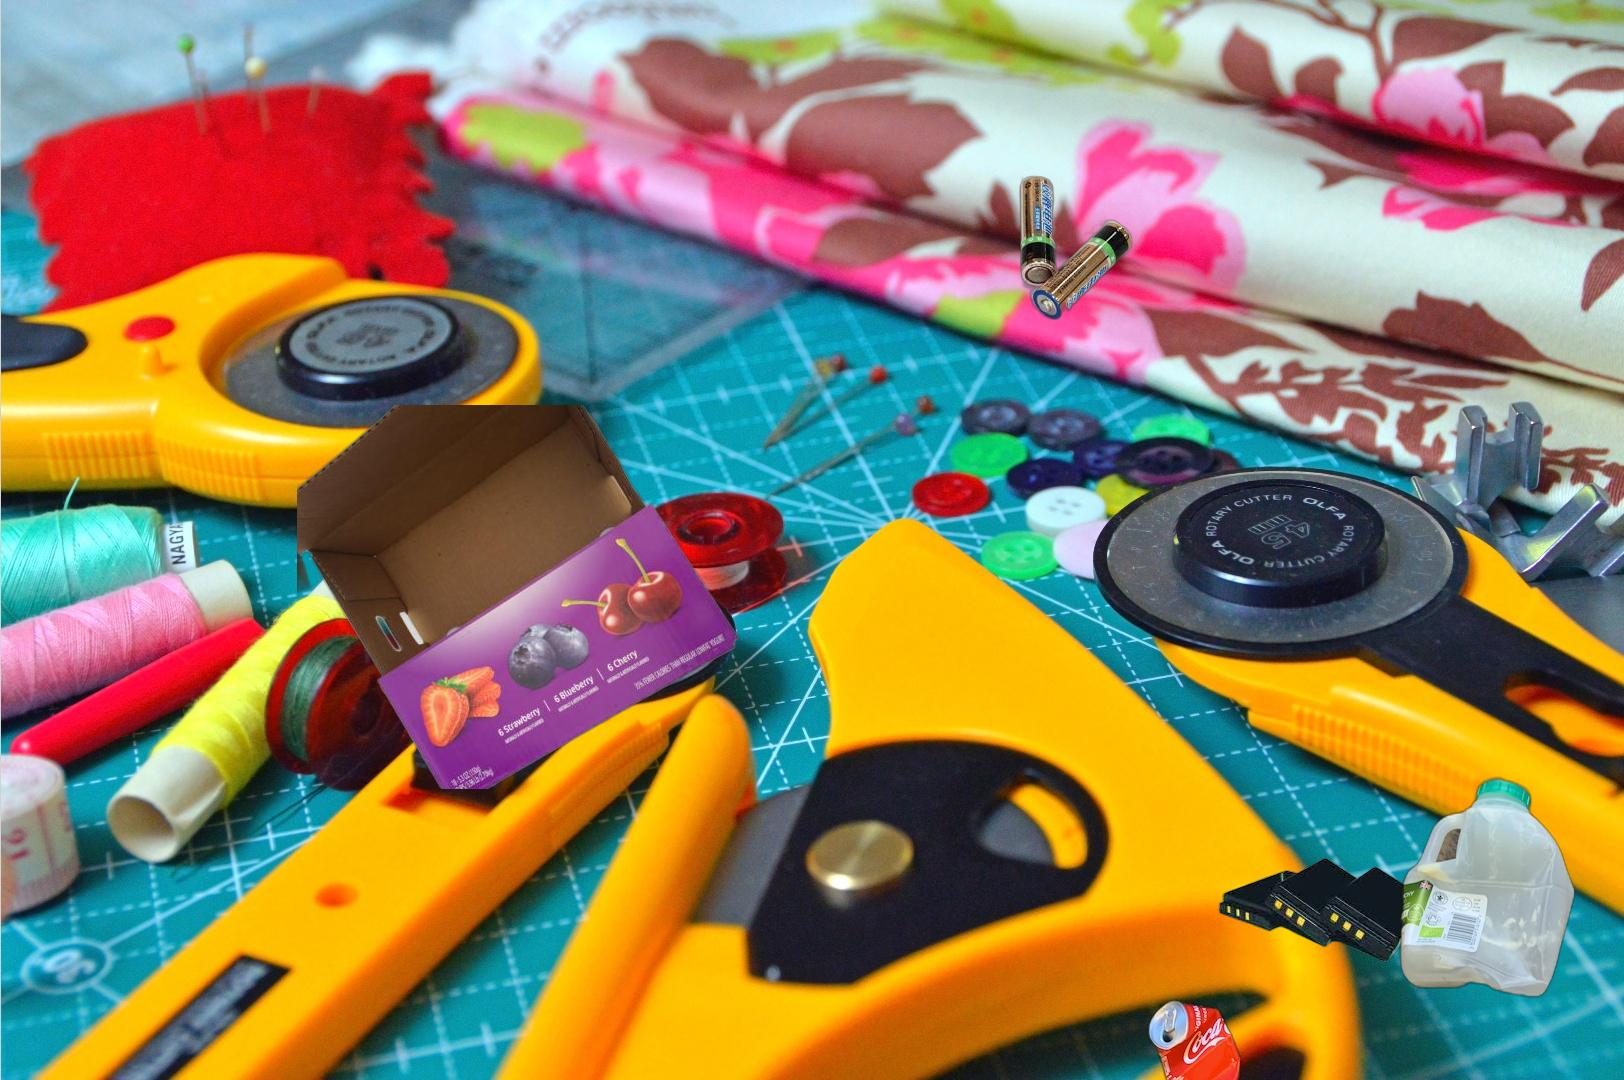battery: (1216, 855, 1432, 965), (1017, 174, 1135, 322)
metal-cans: (1145, 994, 1246, 1080)
plastic-bottles: (1396, 771, 1579, 1003)
trashbox-cardboard: (1193, 538, 1624, 1080), (298, 405, 745, 790)
